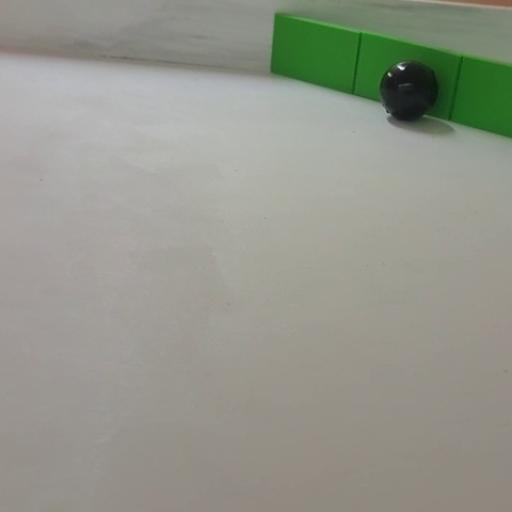dead: (377, 59, 440, 122)
